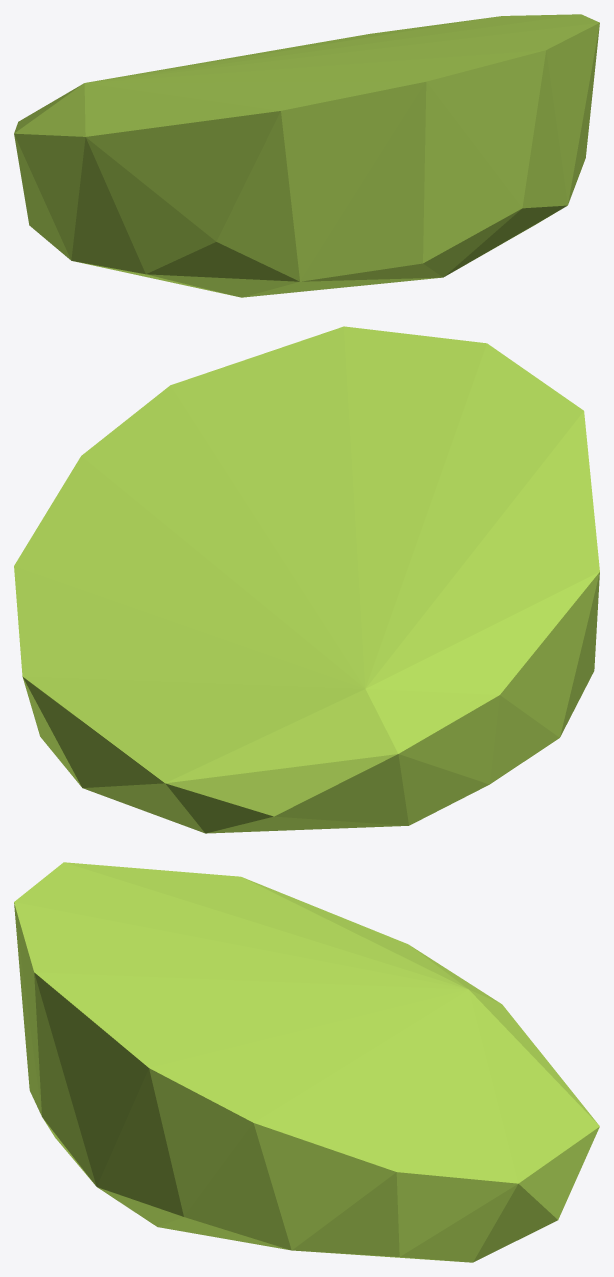
Rendered from ur10e_link_3_coll_3.dae.
The picture shows the model from 3 angles, top to bottom: view 1: azimuth 30°, elevation 25°; view 2: azimuth 150°, elevation 25°; view 3: azimuth 270°, elevation 25°; orthographic projection. The views are drawn at different scales.
Parts seen in each view (by area): view 1: node; view 2: node; view 3: node.
Boxes of the visible parts, x1,y1,x2,y2 form: node: (14,14,599,297); node: (14,326,599,833); node: (14,862,599,1262).
Bounding box in the file's own units: 0.0907 × 0.0471 × 0.0929.
